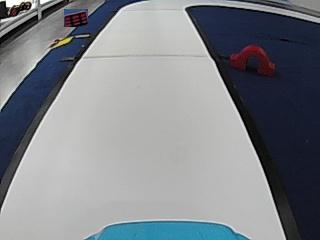bridge: (228, 44, 275, 76)
